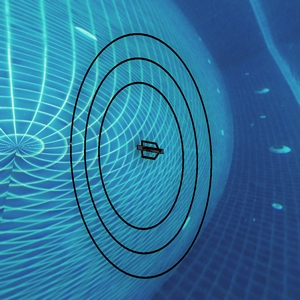submarine: (141, 137, 163, 162)
